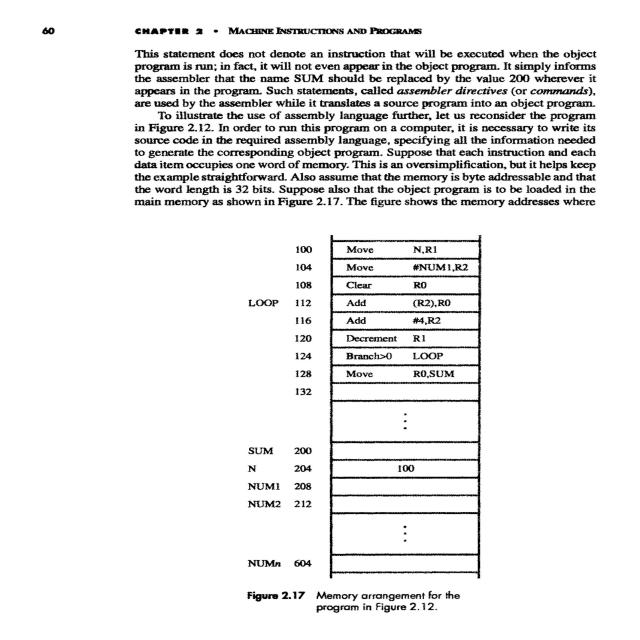diagram: (152, 228, 598, 640)
